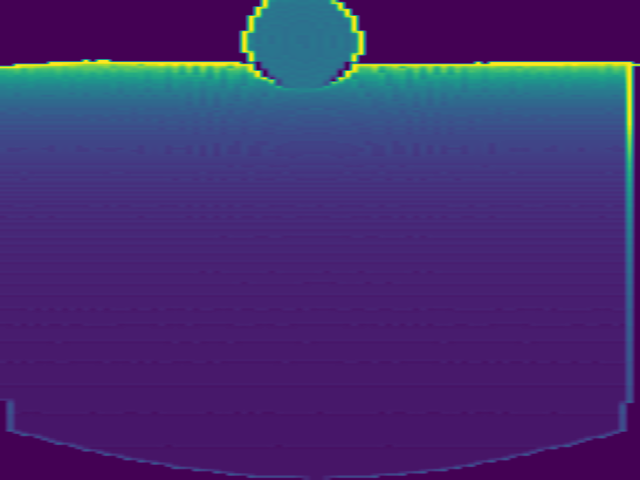sphere: (241, 1, 366, 91)
